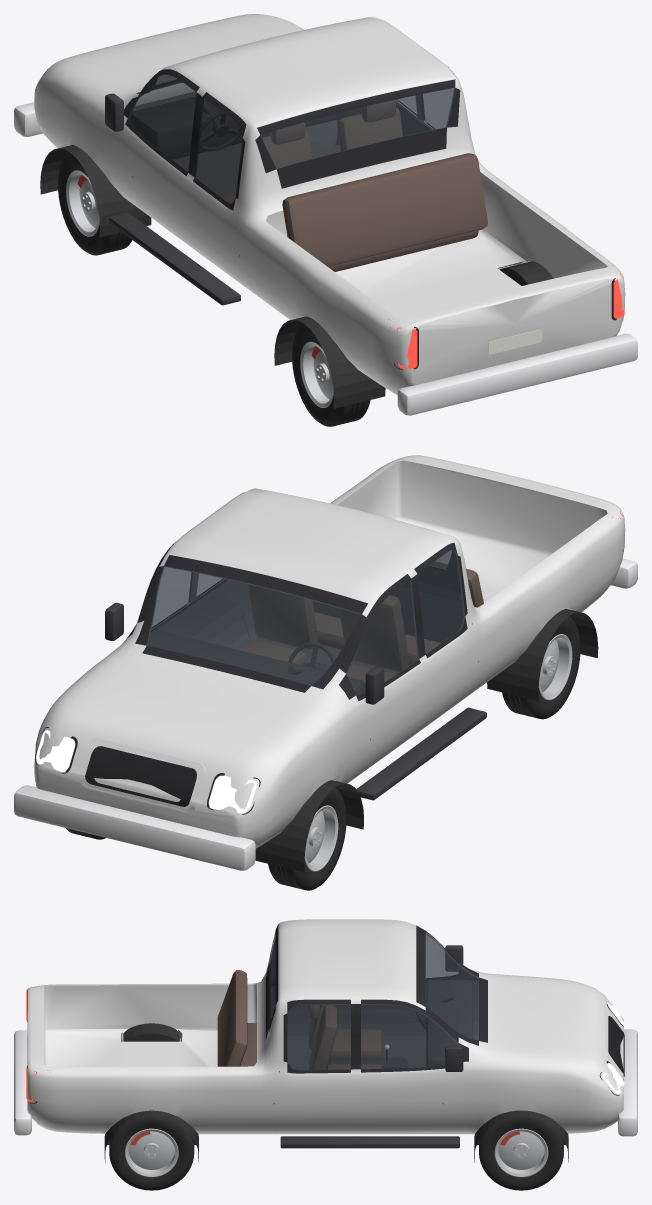
The model's file is t_pickup.glb.
The picture shows the model from 3 angles, top to bottom: view 1: azimuth 30°, elevation 25°; view 2: azimuth 150°, elevation 25°; view 3: azimuth 270°, elevation 25°; orthographic projection. The views are drawn at different scales.
Visible parts, largest first — view 1: Body.002, Interior.002, Glass.002, ArchLiners.002, Bumper_Rear.001, Interior_Shell.002, Wheel_RL.002, Wheel_FL.002, SideStep, Bumper_Front, SteeringWheel.002, Plate_Rear.002 (+2 smaller); view 2: Body.002, Glass.002, Interior.002, Interior_Shell.002, Bumper_Front, ArchLiners.002, Grille_Inner, Wheel_FL.002, Wheel_RL.002, SideStep, Lights_Head.002, Grille.001 (+1 smaller); view 3: Body.002, Glass.002, Interior.002, Wheel_RR.002, Wheel_FR.002, Interior_Shell.002, ArchLiners.002, SideStep, Bumper_Front, Bumper_Rear.001, Mirror_Housing.002, Grille_Inner.
Boxes of the visible parts, x1,y1,x2,y2 form: Body.002: (34, 14, 625, 395); Interior.002: (129, 96, 487, 271); Glass.002: (128, 74, 454, 203); ArchLiners.002: (40, 145, 553, 408); Bumper_Rear.001: (397, 333, 637, 415); Interior_Shell.002: (128, 74, 524, 268); Wheel_RL.002: (292, 323, 370, 426); Wheel_FL.002: (58, 152, 132, 255); SideStep: (109, 212, 240, 305); Bumper_Front: (14, 82, 194, 136); SteeringWheel.002: (199, 98, 241, 151); Plate_Rear.002: (488, 329, 542, 354); Body.002: (34, 455, 625, 848); Glass.002: (134, 549, 465, 695); Interior.002: (147, 561, 483, 695); Interior_Shell.002: (147, 549, 465, 681); Bumper_Front: (14, 785, 255, 870); ArchLiners.002: (255, 609, 598, 872); Grille_Inner: (85, 746, 196, 806); Wheel_FL.002: (268, 787, 346, 890); Wheel_RL.002: (502, 616, 580, 719); SideStep: (356, 707, 486, 800); Lights_Head.002: (36, 730, 256, 813); Grille.001: (79, 738, 204, 812); Body.002: (27, 919, 623, 1134); Glass.002: (269, 931, 478, 1070); Interior.002: (217, 970, 473, 1070); Wheel_RR.002: (109, 1115, 194, 1190); Wheel_FR.002: (479, 1115, 563, 1190); Interior_Shell.002: (121, 933, 478, 1069); ArchLiners.002: (104, 1023, 568, 1162); SideStep: (280, 1136, 459, 1148); Bumper_Front: (618, 1029, 637, 1136); Bumper_Rear.001: (14, 1030, 31, 1135); Mirror_Housing.002: (445, 945, 463, 1071); Grille_Inner: (608, 1016, 624, 1076).
Size of what is drawn, in the model's own units: 2.2 by 1.88 by 5.57.
